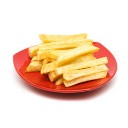frenchfries: (28, 31, 108, 82)
